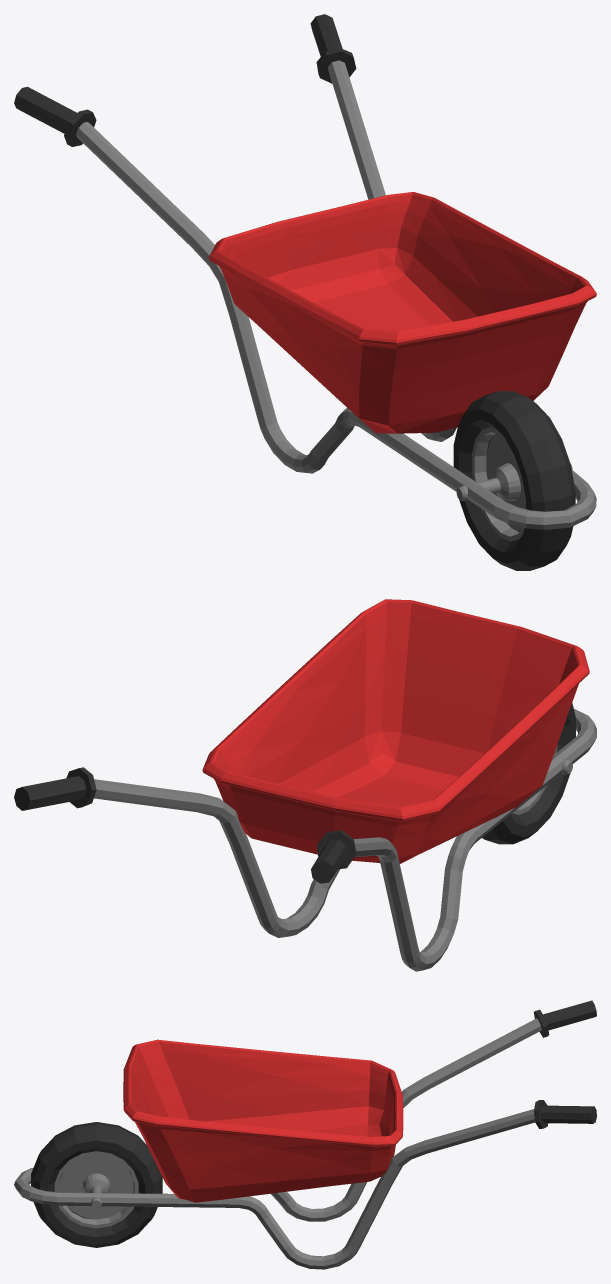
The model's file is dec2f808-2ea3-4eb6-a07f-a439c672b9e2.glb.
The picture shows the model from 3 angles, top to bottom: view 1: azimuth 30°, elevation 25°; view 2: azimuth 150°, elevation 25°; view 3: azimuth 270°, elevation 25°; orthographic projection. The views are drawn at different scales.
Visible parts, largest first — view 1: Wheelbarrow; view 2: Wheelbarrow; view 3: Wheelbarrow.
Boxes of the visible parts, x1,y1,x2,y2 form: Wheelbarrow: (14,14,596,570); Wheelbarrow: (14,599,596,971); Wheelbarrow: (14,1000,596,1269).
Size of the model in its own units: 30.92 by 24.33 by 67.14.
Materials: 1 (1 with a texture image).
